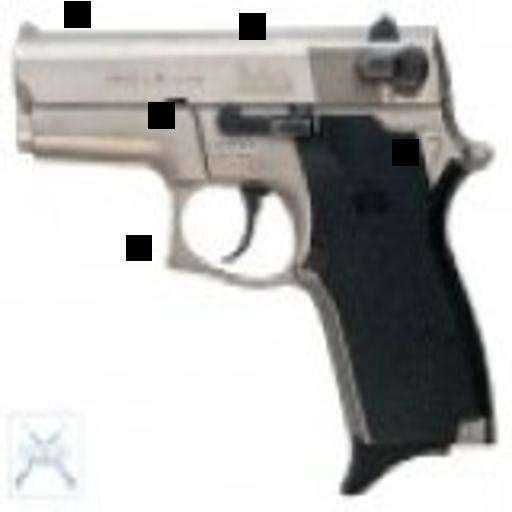Handgun: (11, 7, 495, 481)
